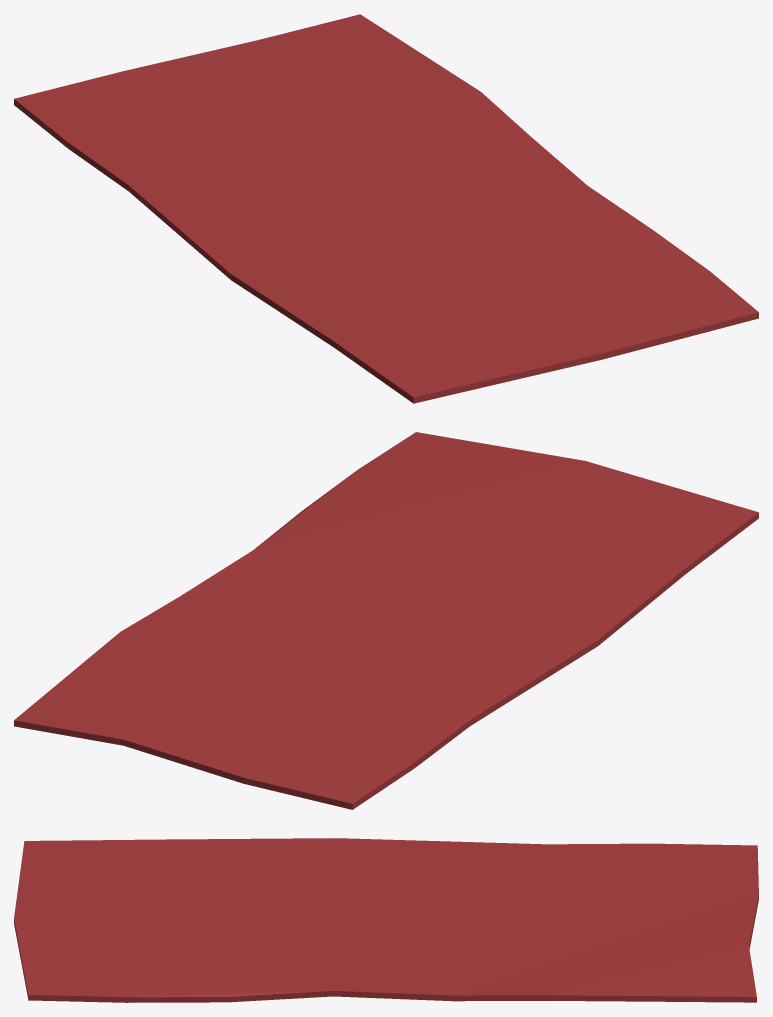
Rendered from SM_Props_City_Beach_Blanket_01.fbx.
The picture shows the model from 3 angles, top to bottom: view 1: azimuth 30°, elevation 25°; view 2: azimuth 150°, elevation 25°; view 3: azimuth 270°, elevation 25°; orthographic projection. The views are drawn at different scales.
Parts seen in each view (by area): view 1: SM_Props_City_Beach_Blanket_01; view 2: SM_Props_City_Beach_Blanket_01; view 3: SM_Props_City_Beach_Blanket_01.
Part boxes in pixels (x1,y1,x2,y2): SM_Props_City_Beach_Blanket_01: [14, 14, 758, 403]; SM_Props_City_Beach_Blanket_01: [14, 432, 758, 809]; SM_Props_City_Beach_Blanket_01: [14, 838, 758, 1002].
Bounding box in the file's own units: 92.61 × 2.81 × 180.
